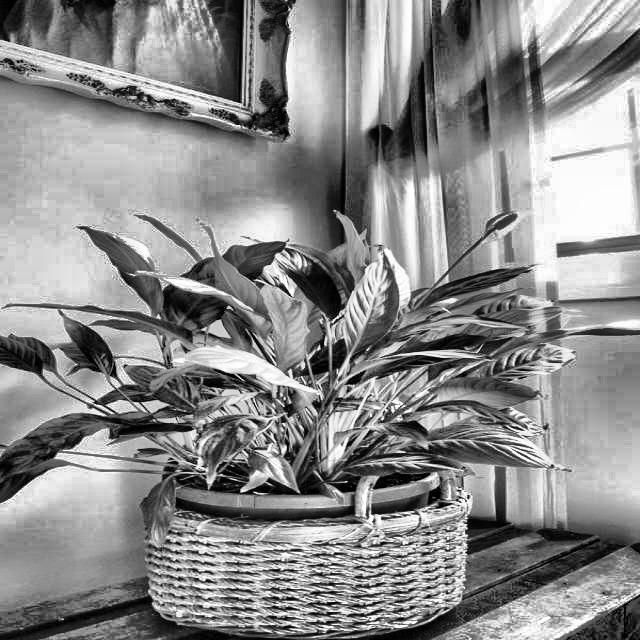plants: (0, 208, 602, 588)
